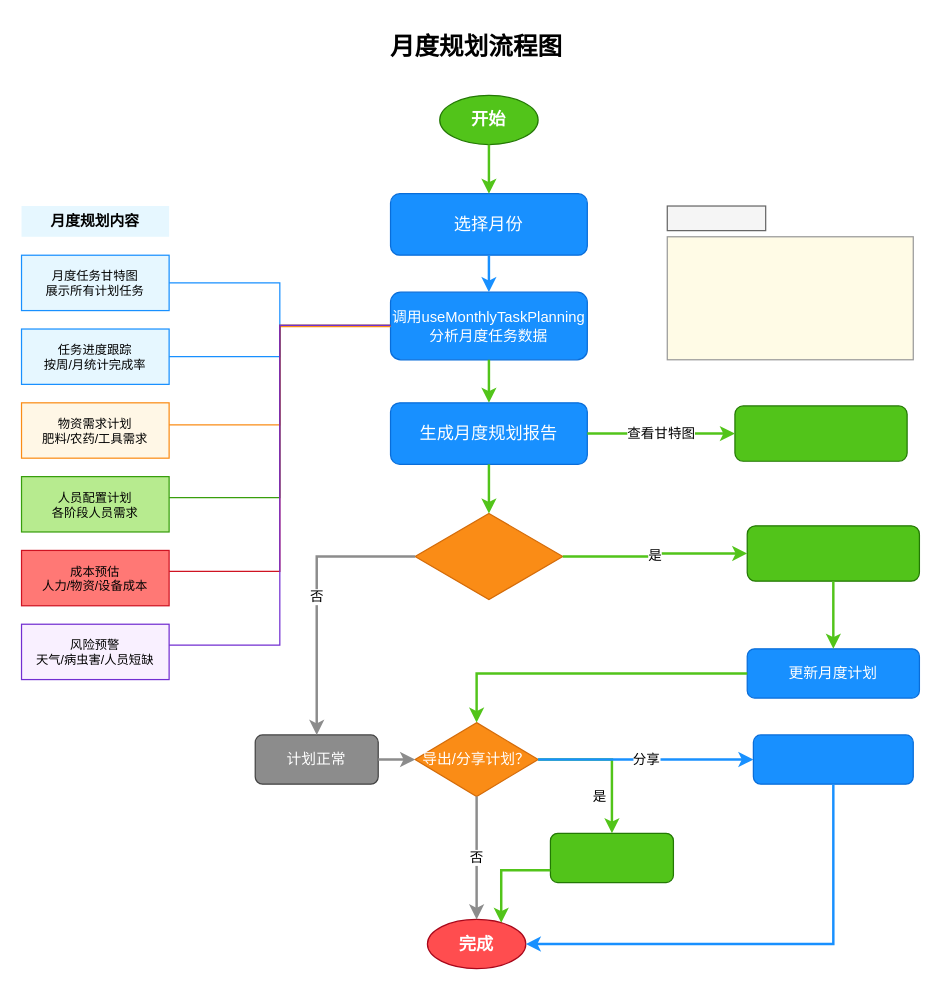
This 941x990 diagram has some shape labels left out. The shapes that lost their labels are listed below. From the top down, each one's box as (x1, y1, x2, y2) in pixels, then its label:
(666, 205, 766, 231): 输出内容：
(666, 236, 913, 360): 1. 月度任务甘特图 2. 周/月进度统计表 3. 物资需求清单 4. 人员配置表 5. 成本预估报表 6. 风险预警提示
(734, 405, 907, 461): 展示月度甘特图
(414, 512, 563, 600): 需要调整计划？
(746, 525, 919, 581): 调整任务时间/资源
(752, 734, 913, 784): 分享给团队成员
(549, 832, 673, 883): 导出Excel/Word/PDF
